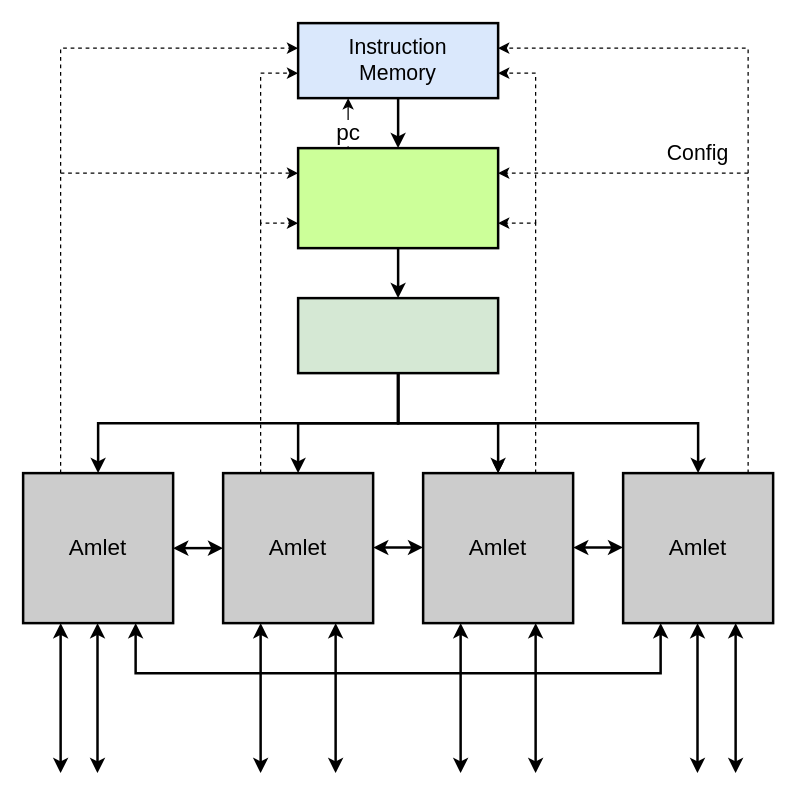
Image size: 795x806. Some labels were removed from this diagram. Here are the shapes that lost their labels. From the top down, the centre of each, then its label:
At (x=397, y=197): "Loop Unrolling".
At (x=397, y=335): "Initial Reorder".
